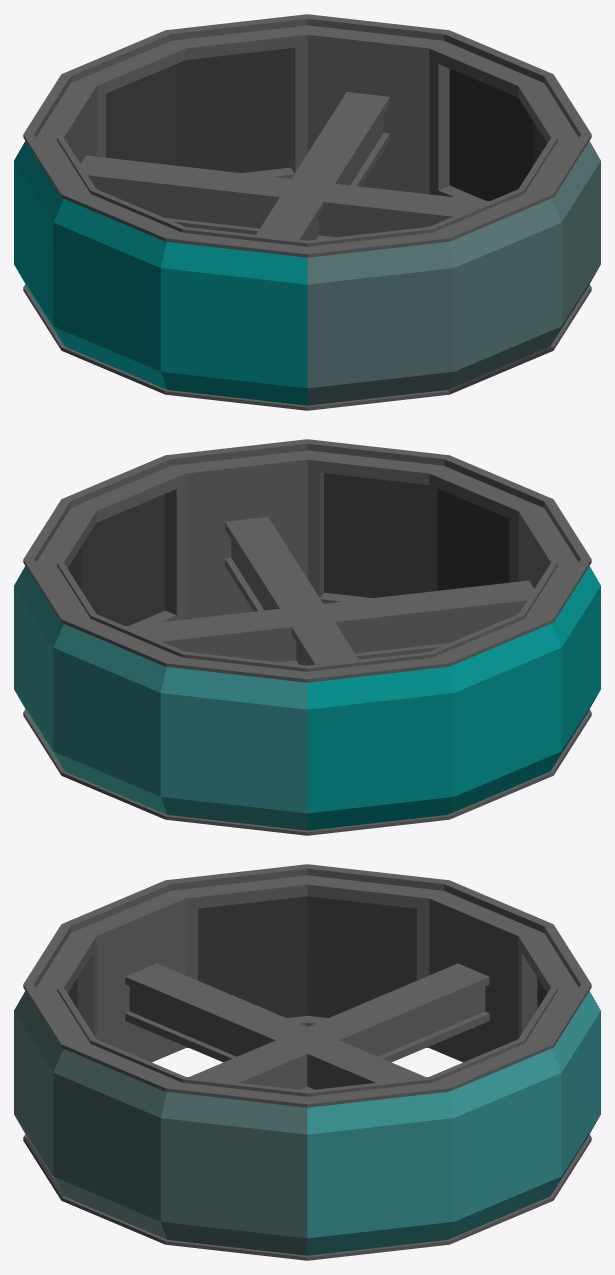
File: Signboard_05_A_3840x1080.FBX
The picture shows the model from 3 angles, top to bottom: view 1: azimuth 30°, elevation 25°; view 2: azimuth 150°, elevation 25°; view 3: azimuth 270°, elevation 25°; orthographic projection.
Visible parts, largest first — view 1: Signboard_05_A_3840x1080_LOD0; view 2: Signboard_05_A_3840x1080_LOD0; view 3: Signboard_05_A_3840x1080_LOD0.
Boxes of the visible parts, <box> form: Signboard_05_A_3840x1080_LOD0: <box>14,14,600,410</box>; Signboard_05_A_3840x1080_LOD0: <box>14,439,600,835</box>; Signboard_05_A_3840x1080_LOD0: <box>14,864,600,1260</box>.
Size of what is drawn, in the model's own units: 329 by 96.66 by 329.
